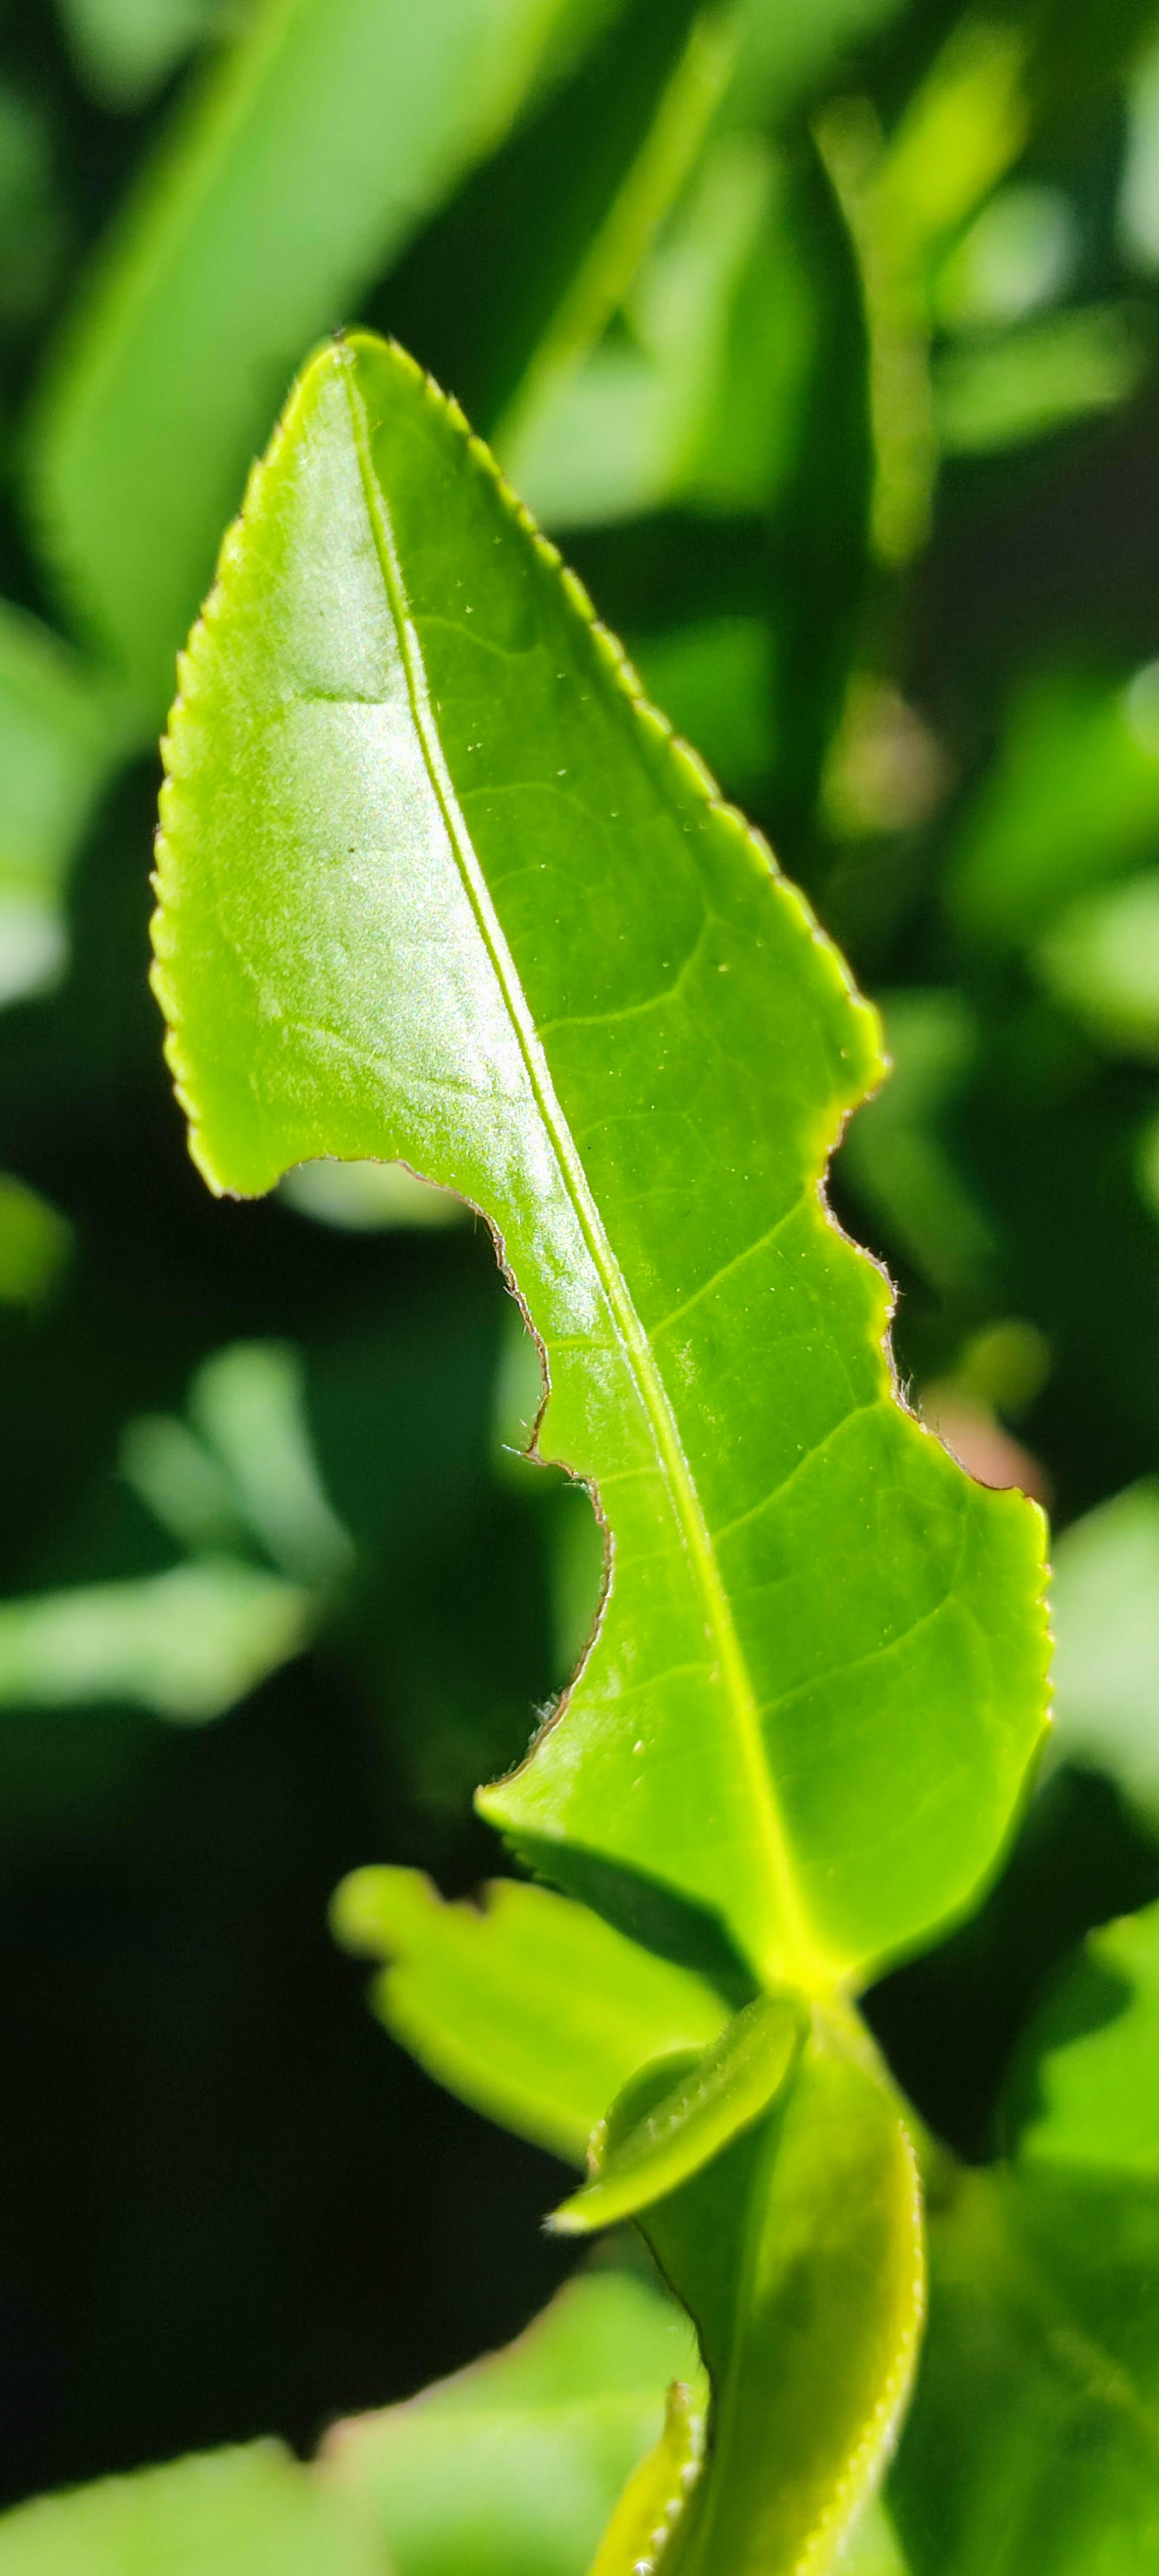chihuo_high: (131, 327, 1059, 1981)
